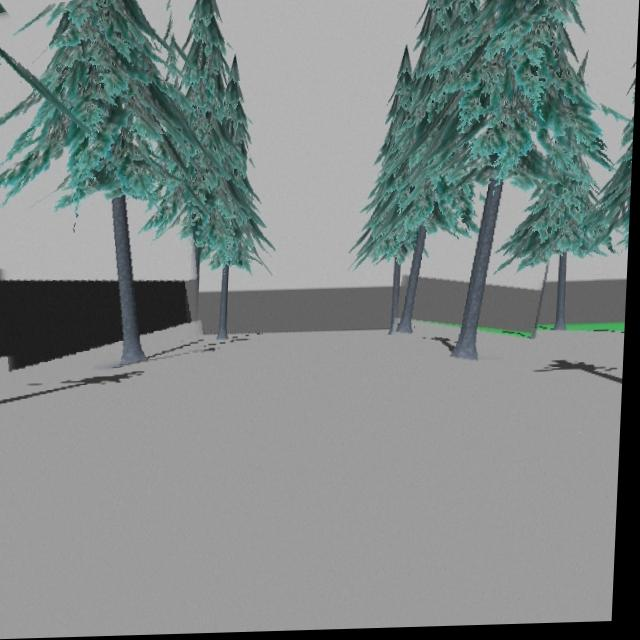tree: (0, 0, 188, 365), (422, 0, 575, 365)
